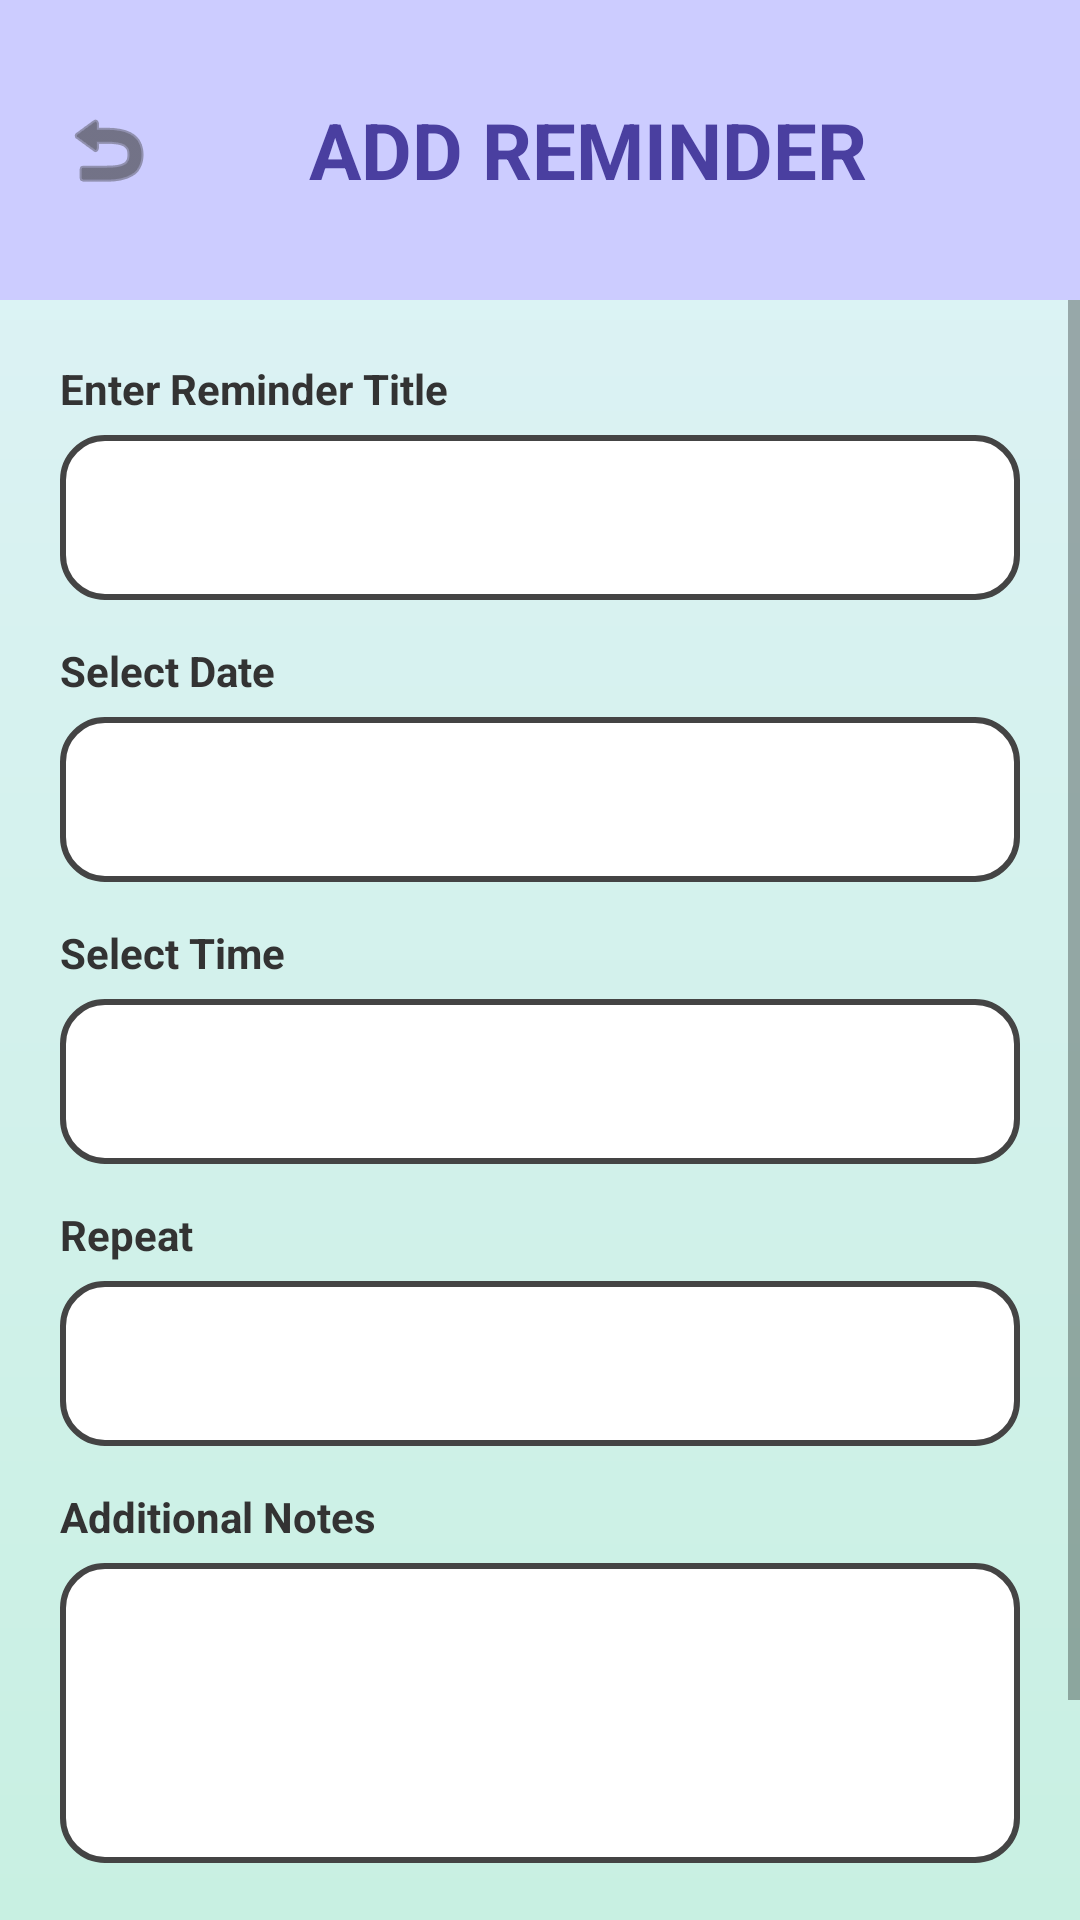

Where to tap for icons on this 1080*1920 app screen, as (x=x, y=y):
revert: (x=109, y=150)
